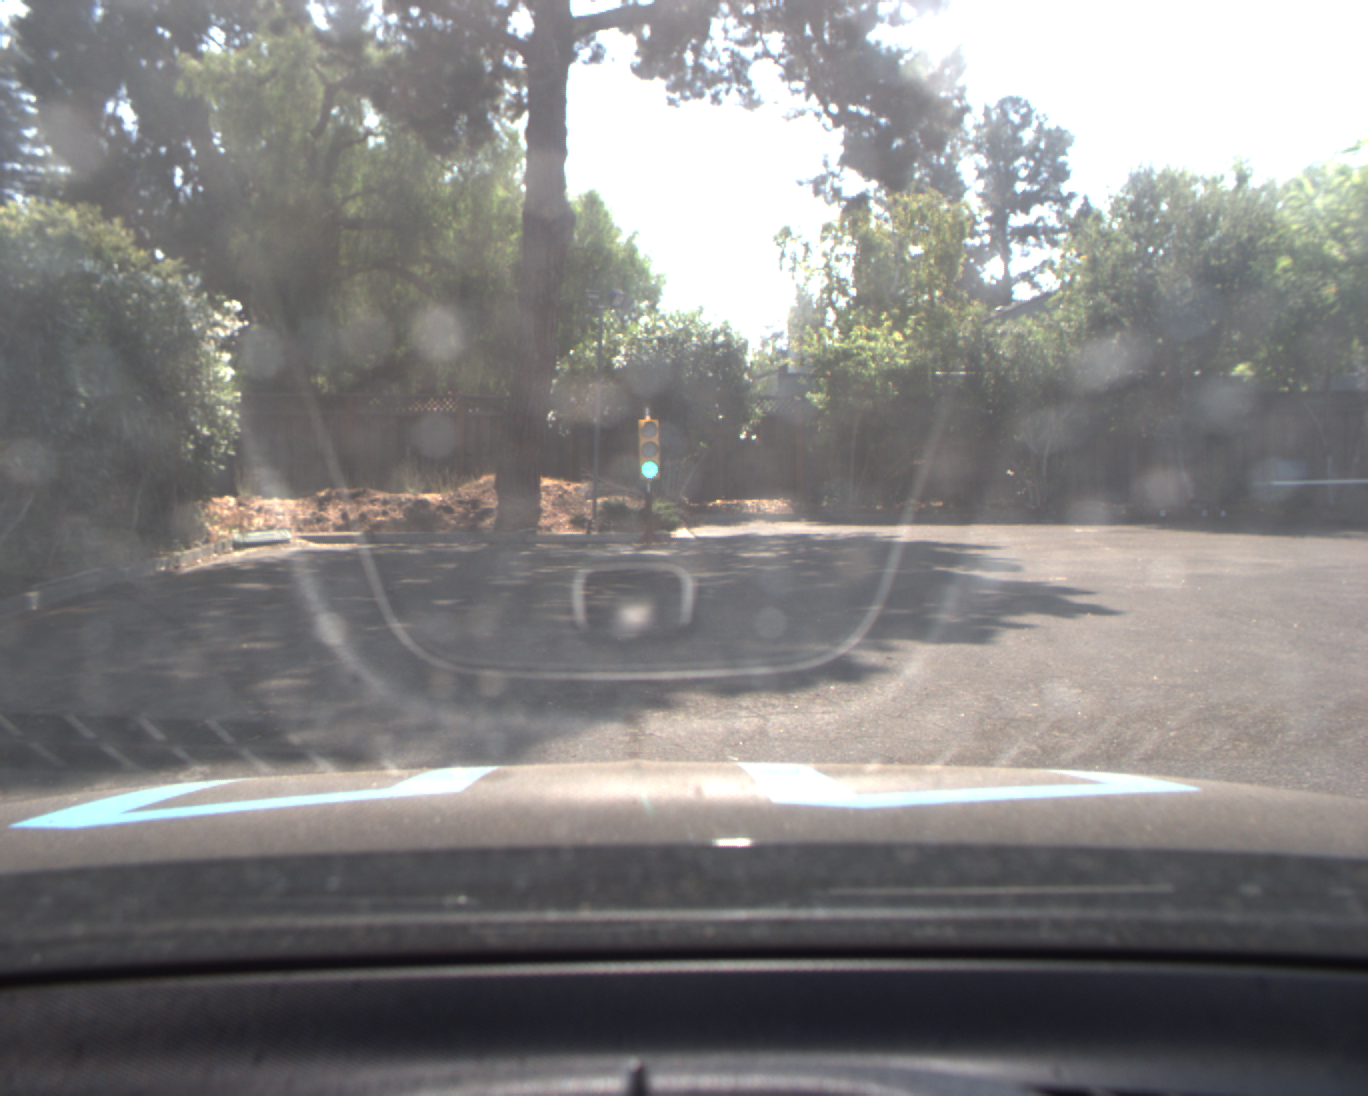green: (636, 417, 661, 482)
